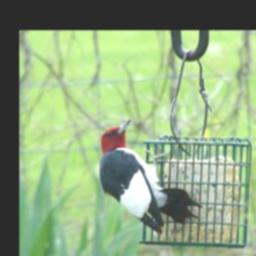Woodpecker: (100, 118, 204, 233)
